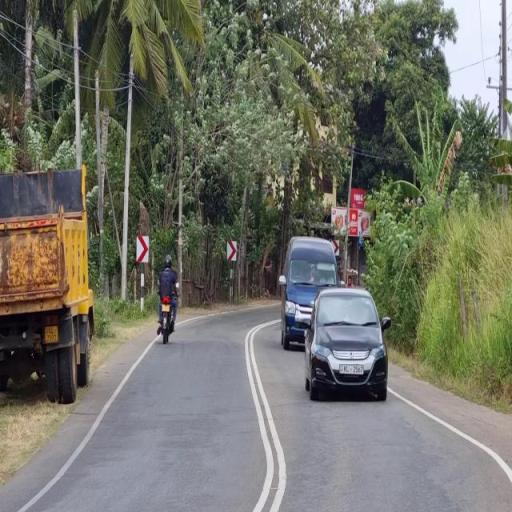double_white_line: (242, 322, 290, 510)
